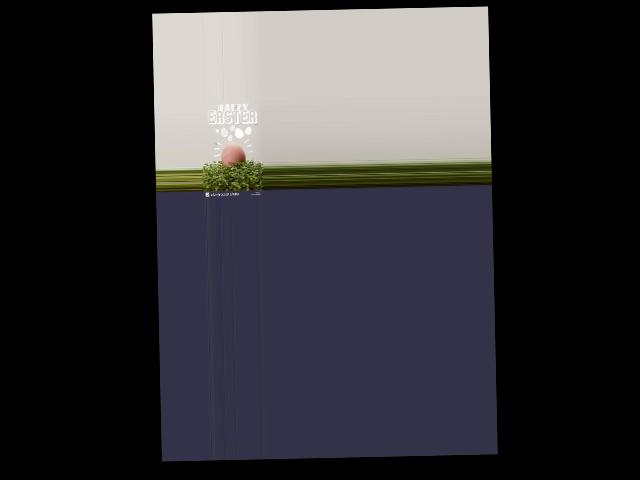egg: (221, 142, 246, 166)
